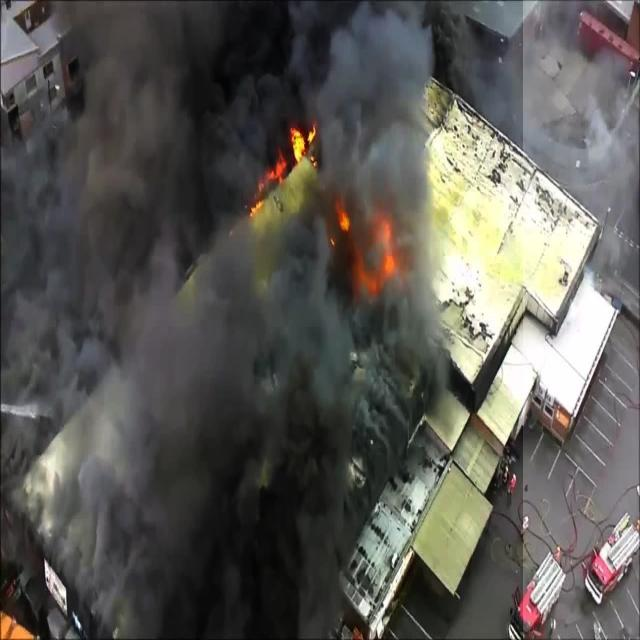Fire: (254, 115, 330, 200), (333, 207, 395, 294)
Smoke: (0, 0, 523, 640)
